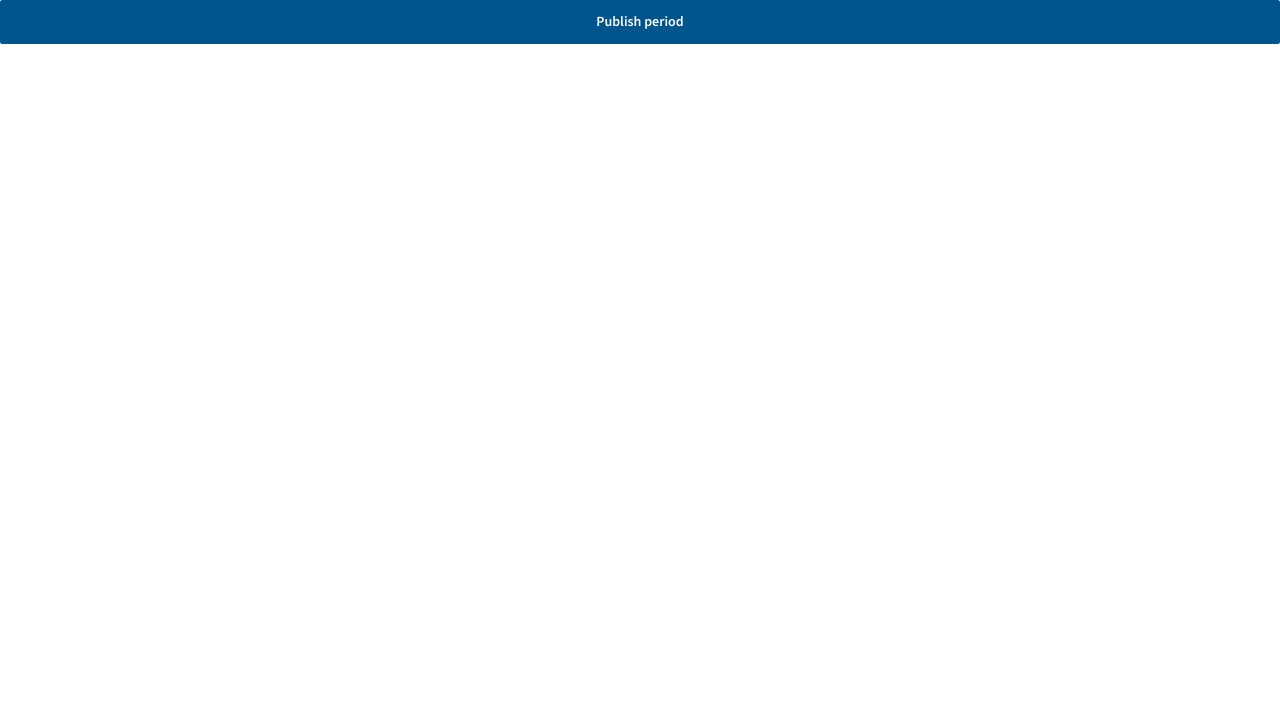
the publish period action › says what publishing means before it publishes
This screenshot has width=1280, height=720.
Step 1. Click the button "Publish period" → click(640, 22), box [0,0,1279,44]
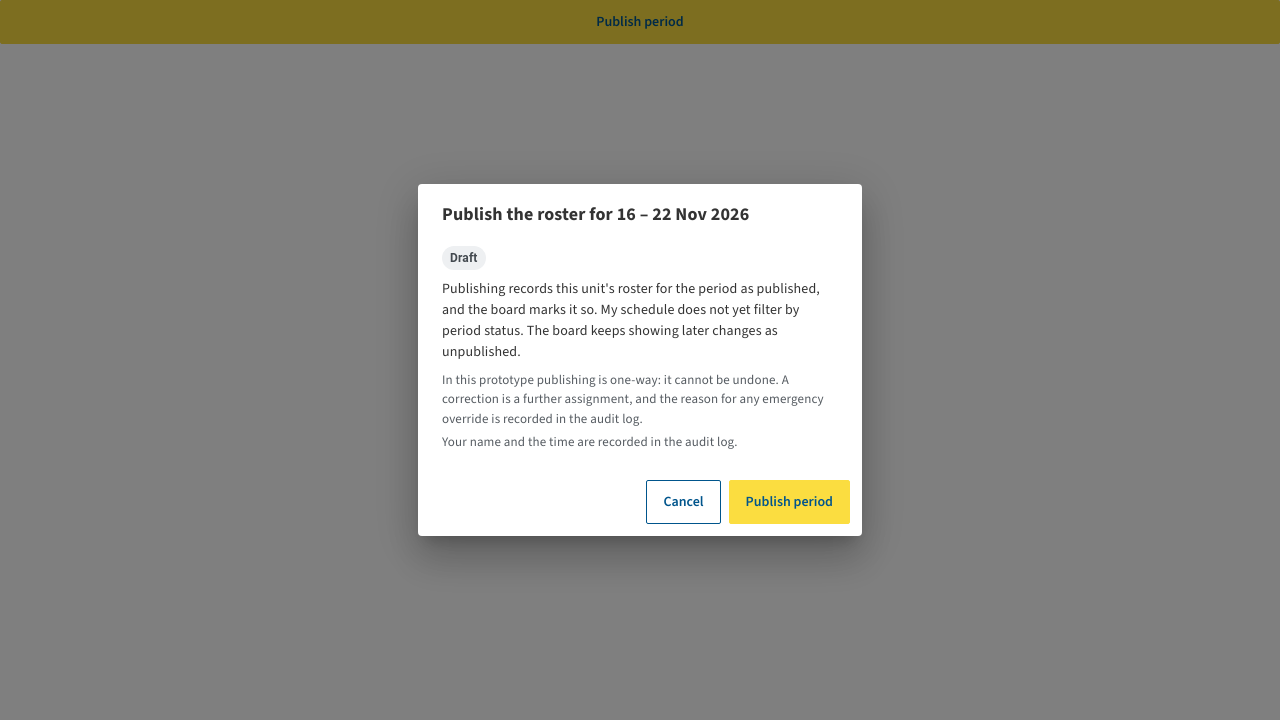
expect the dialog shows "Publish the roster for 16 – 22 Nov 2026": met, box [418,184,862,536]
expect the dialog shows "records this unit's roster for the period as published": met, box [442,279,820,361]
expect the dialog shows "My schedule does not yet filter by period status": met, box [442,279,820,361]
